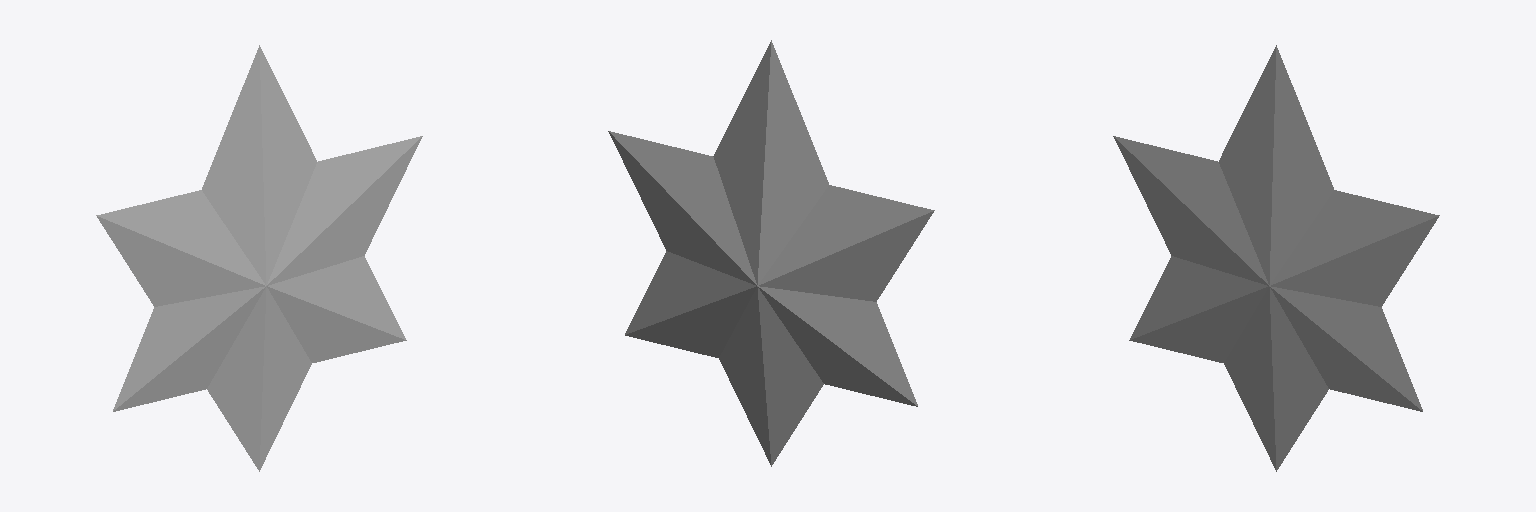
The model's file is star.obj.
3 renders of one model, left to right at view 1: azimuth 30°, elevation 25°; view 2: azimuth 150°, elevation 25°; view 3: azimuth 330°, elevation 25°, orthographic.
Visible parts, largest first — view 1: initialShadingGroup Layer0_001; view 2: initialShadingGroup Layer0_001; view 3: initialShadingGroup Layer0_001.
Boxes of the visible parts, <box> form: initialShadingGroup Layer0_001: <box>96,45,422,471</box>; initialShadingGroup Layer0_001: <box>608,40,934,466</box>; initialShadingGroup Layer0_001: <box>1113,45,1439,471</box>.
Bounding box in the file's own units: 4.44 × 5.54 × 0.4965.